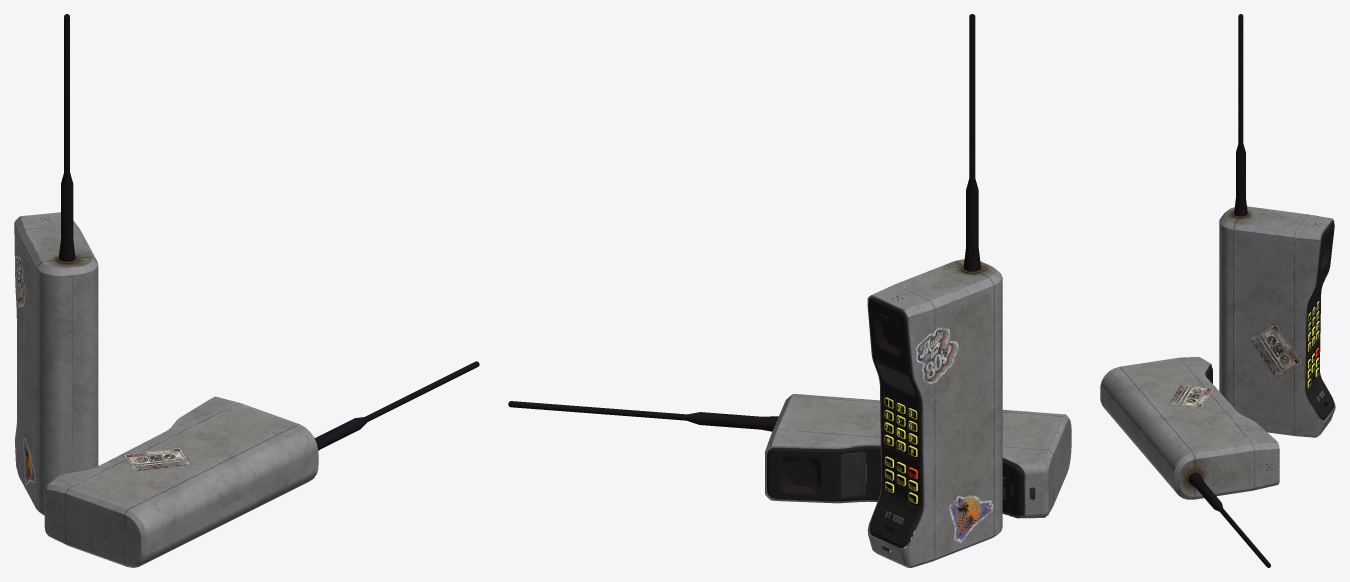
Rendered from old_cell_phone.glb.
3 views of the same model, side by side, from view 1: azimuth 30°, elevation 25°; view 2: azimuth 150°, elevation 25°; view 3: azimuth 270°, elevation 25° (orthographic). The views are drawn at different scales.
Parts seen in each view (by area): view 1: Cube.006, Cube.005; view 2: Cube.005, Cube.006; view 3: Cube.005, Cube.006.
Part boxes in pixels (box(x1,y1,x2,y2)): Cube.006: box(44, 361, 479, 567); Cube.005: box(14, 14, 98, 515); Cube.005: box(867, 14, 1002, 567); Cube.006: box(508, 394, 1071, 518); Cube.005: box(1219, 14, 1335, 437); Cube.006: box(1100, 356, 1279, 567).
Bounding box in the file's own units: 6.31 × 6.27 × 3.31.
1 material, 1 textured.
